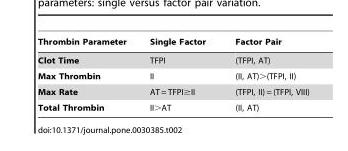table: (37, 37, 308, 111)
table column: (37, 37, 137, 111), (219, 37, 308, 111), (137, 37, 219, 111)
table column header: (37, 37, 308, 50)
table row: (37, 50, 308, 68), (37, 83, 308, 99), (37, 68, 308, 83), (37, 37, 308, 50), (37, 99, 308, 111)
